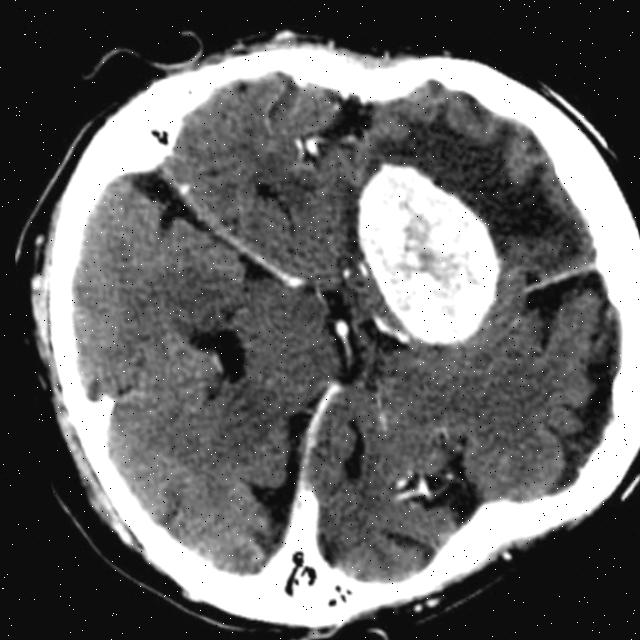Meningioma: (339, 144, 518, 359)
